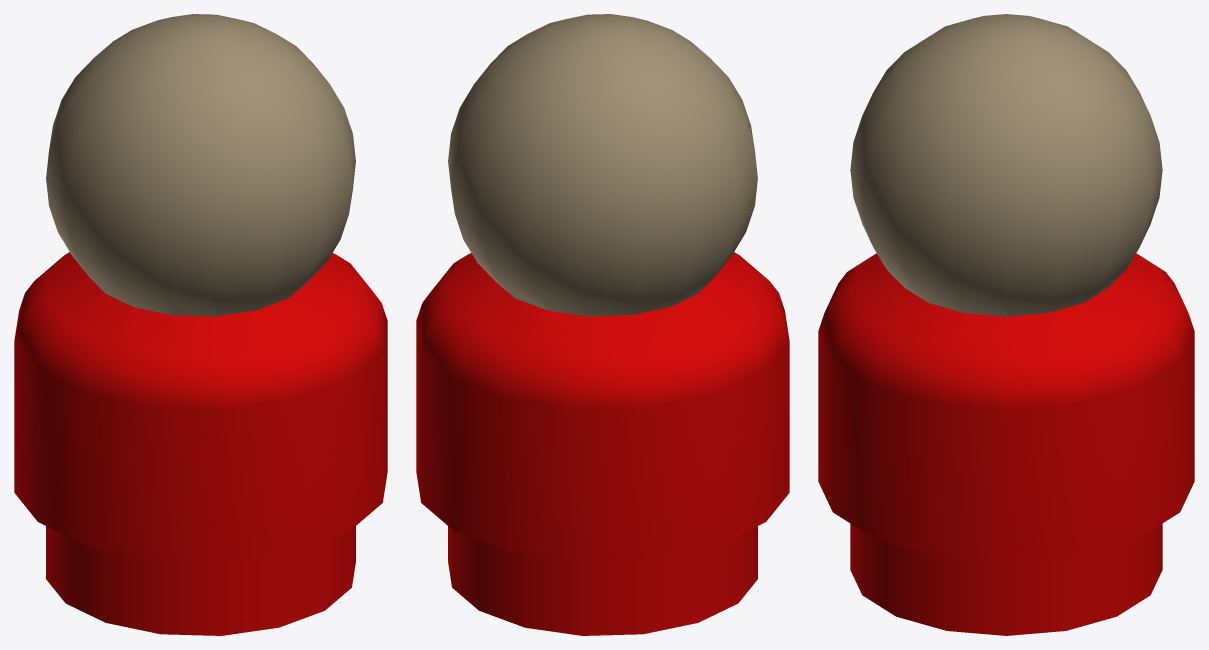
File: Playerv2.fbx
3 renders of one model, left to right at view 1: azimuth 30°, elevation 25°; view 2: azimuth 150°, elevation 25°; view 3: azimuth 270°, elevation 25°, orthographic.
Visible parts, largest first — view 1: ToyBody; view 2: ToyBody; view 3: ToyBody.
Part boxes in pixels (left/top/right/bottom): ToyBody: left=14, top=14, right=387, bottom=635; ToyBody: left=416, top=14, right=789, bottom=635; ToyBody: left=818, top=14, right=1194, bottom=635.
Size of the model in its own units: 422 by 670 by 422.
